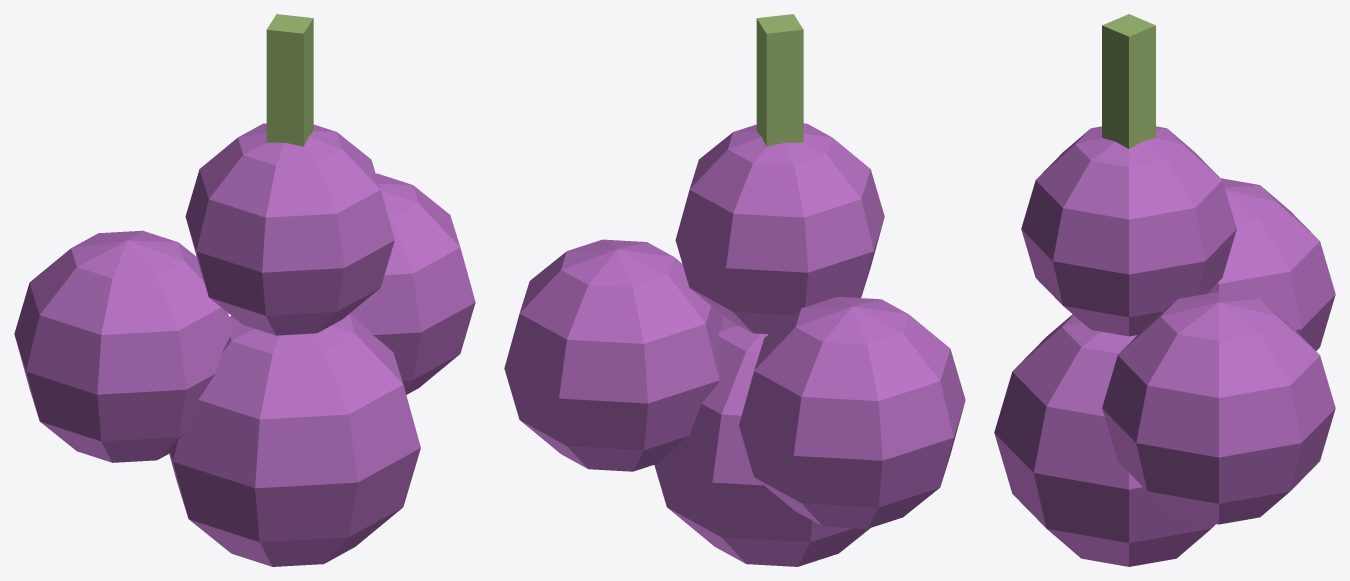
Rendered from grapes.glb.
3 renders of one model, left to right at view 1: azimuth 30°, elevation 25°; view 2: azimuth 150°, elevation 25°; view 3: azimuth 270°, elevation 25°, orthographic.
Visible parts, largest first — view 1: g1, g3, g4, g2, stem; view 2: g3, g2, g4, g1, stem; view 3: g2, g4, g1, g3, stem.
Boxes of the visible parts, <box> form: g1: <box>169,313,420,566</box>; g3: <box>14,230,233,462</box>; g4: <box>185,123,394,335</box>; g2: <box>350,173,475,394</box>; stem: <box>266,14,313,146</box>; g3: <box>739,296,965,528</box>; g2: <box>504,239,723,471</box>; g4: <box>675,123,884,334</box>; g1: <box>654,316,870,566</box>; stem: <box>756,14,803,146</box>; g2: <box>1102,292,1335,524</box>; g4: <box>1021,126,1236,336</box>; g1: <box>994,314,1215,566</box>; g3: <box>1207,178,1335,350</box>; stem: <box>1102,14,1155,148</box>.
Size of the model in its own units: 0.056 by 0.065 by 0.038.
